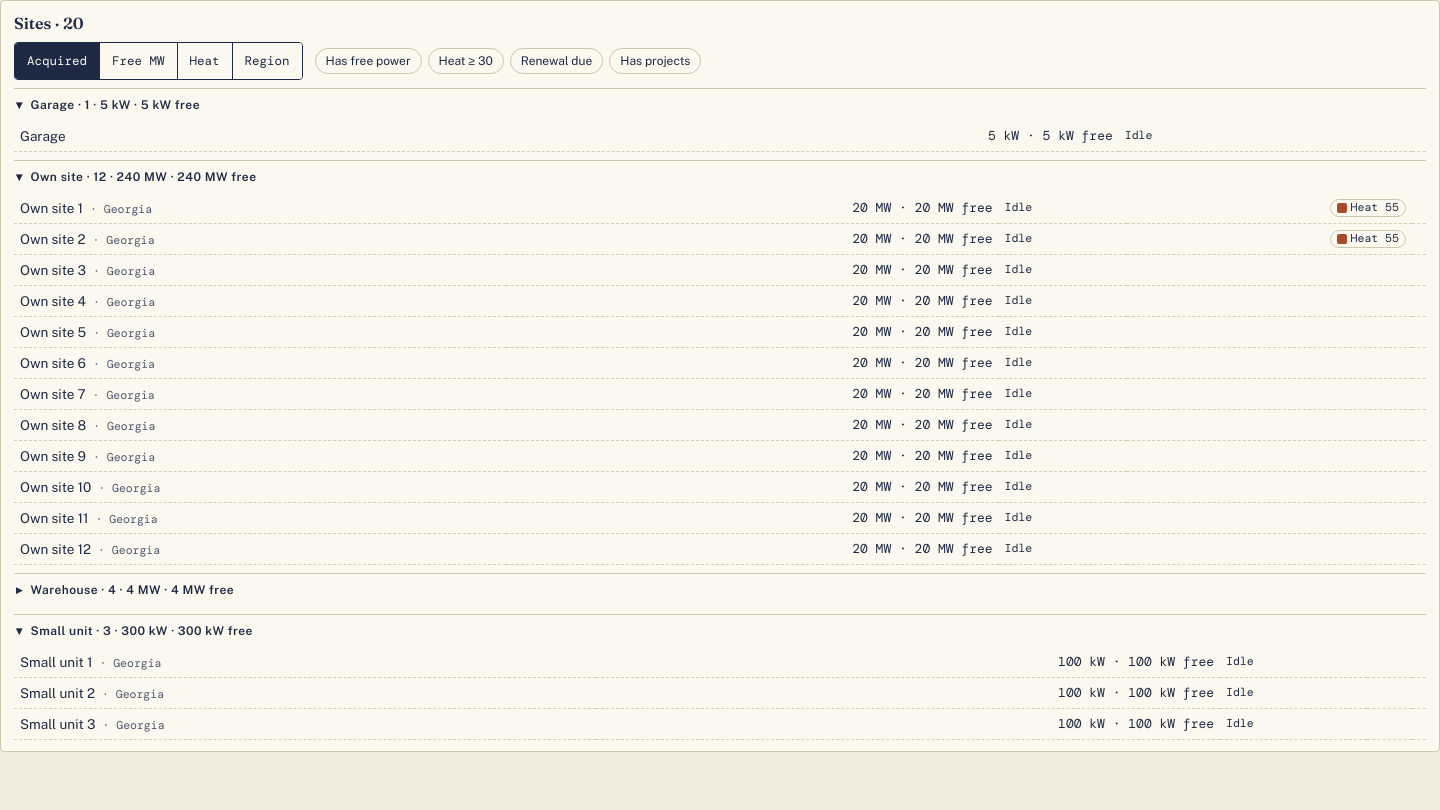
Scenario: Fleet & Sites: grouped sites › filter chips combine: Heat ≥ 30, then Has projects
The width and height of the screenshot is (1440, 810).
Click the button "Heat ≥ 30": {"x": 466, "y": 61} 428,48 -> 504,74
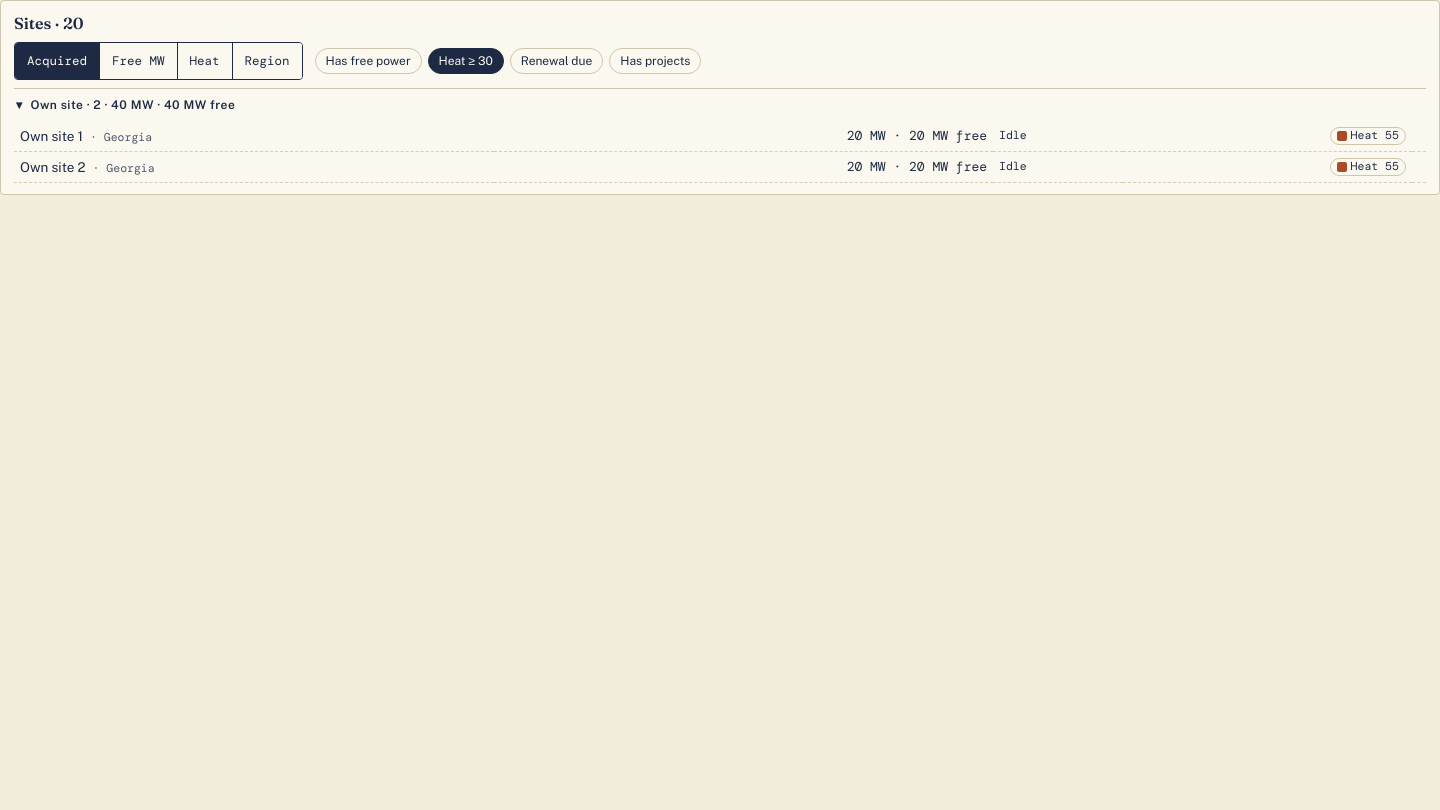
Click the button "Has projects": {"x": 655, "y": 61} 609,48 -> 701,74
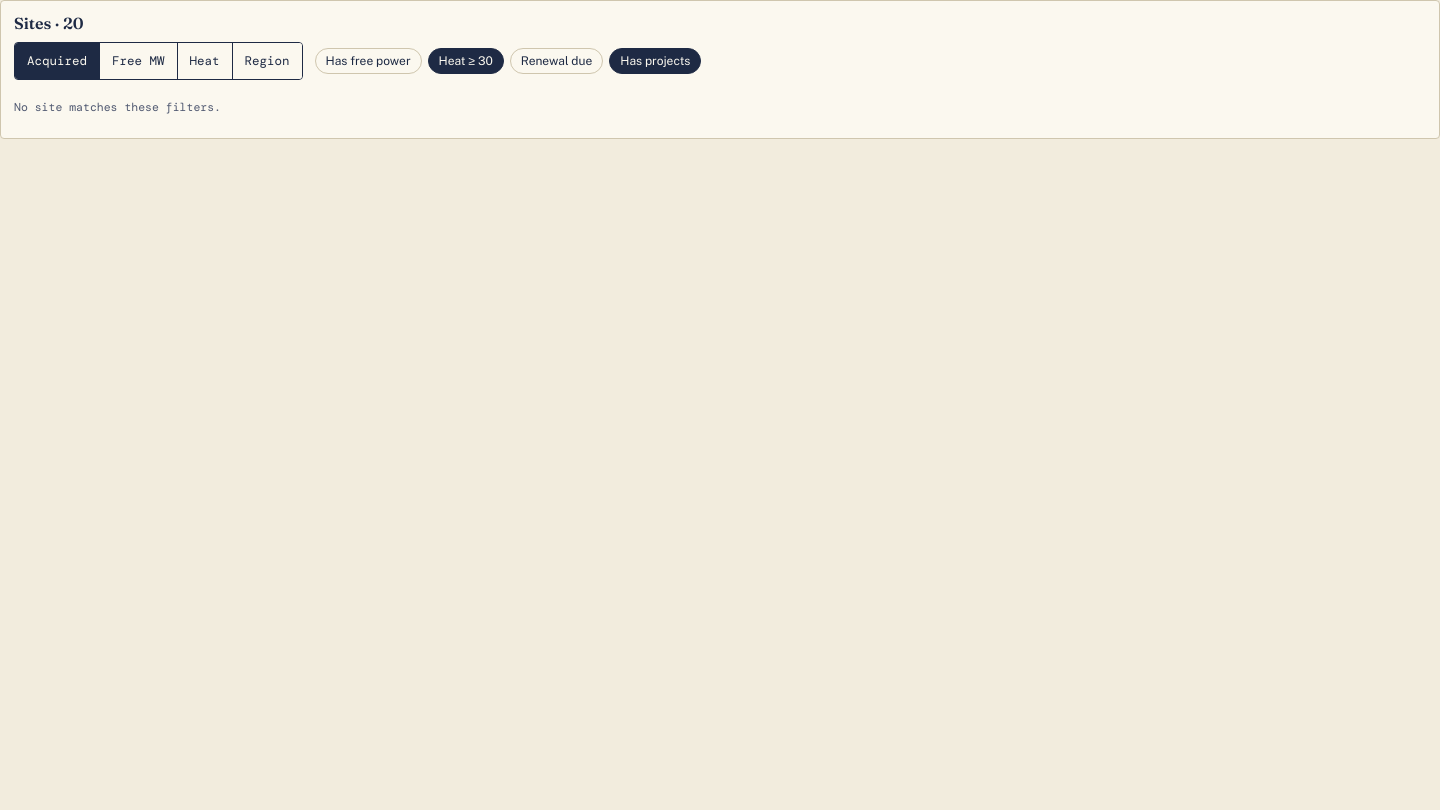
Expected: the text "No site matches these filters." is shown, 14,100 -> 221,114
